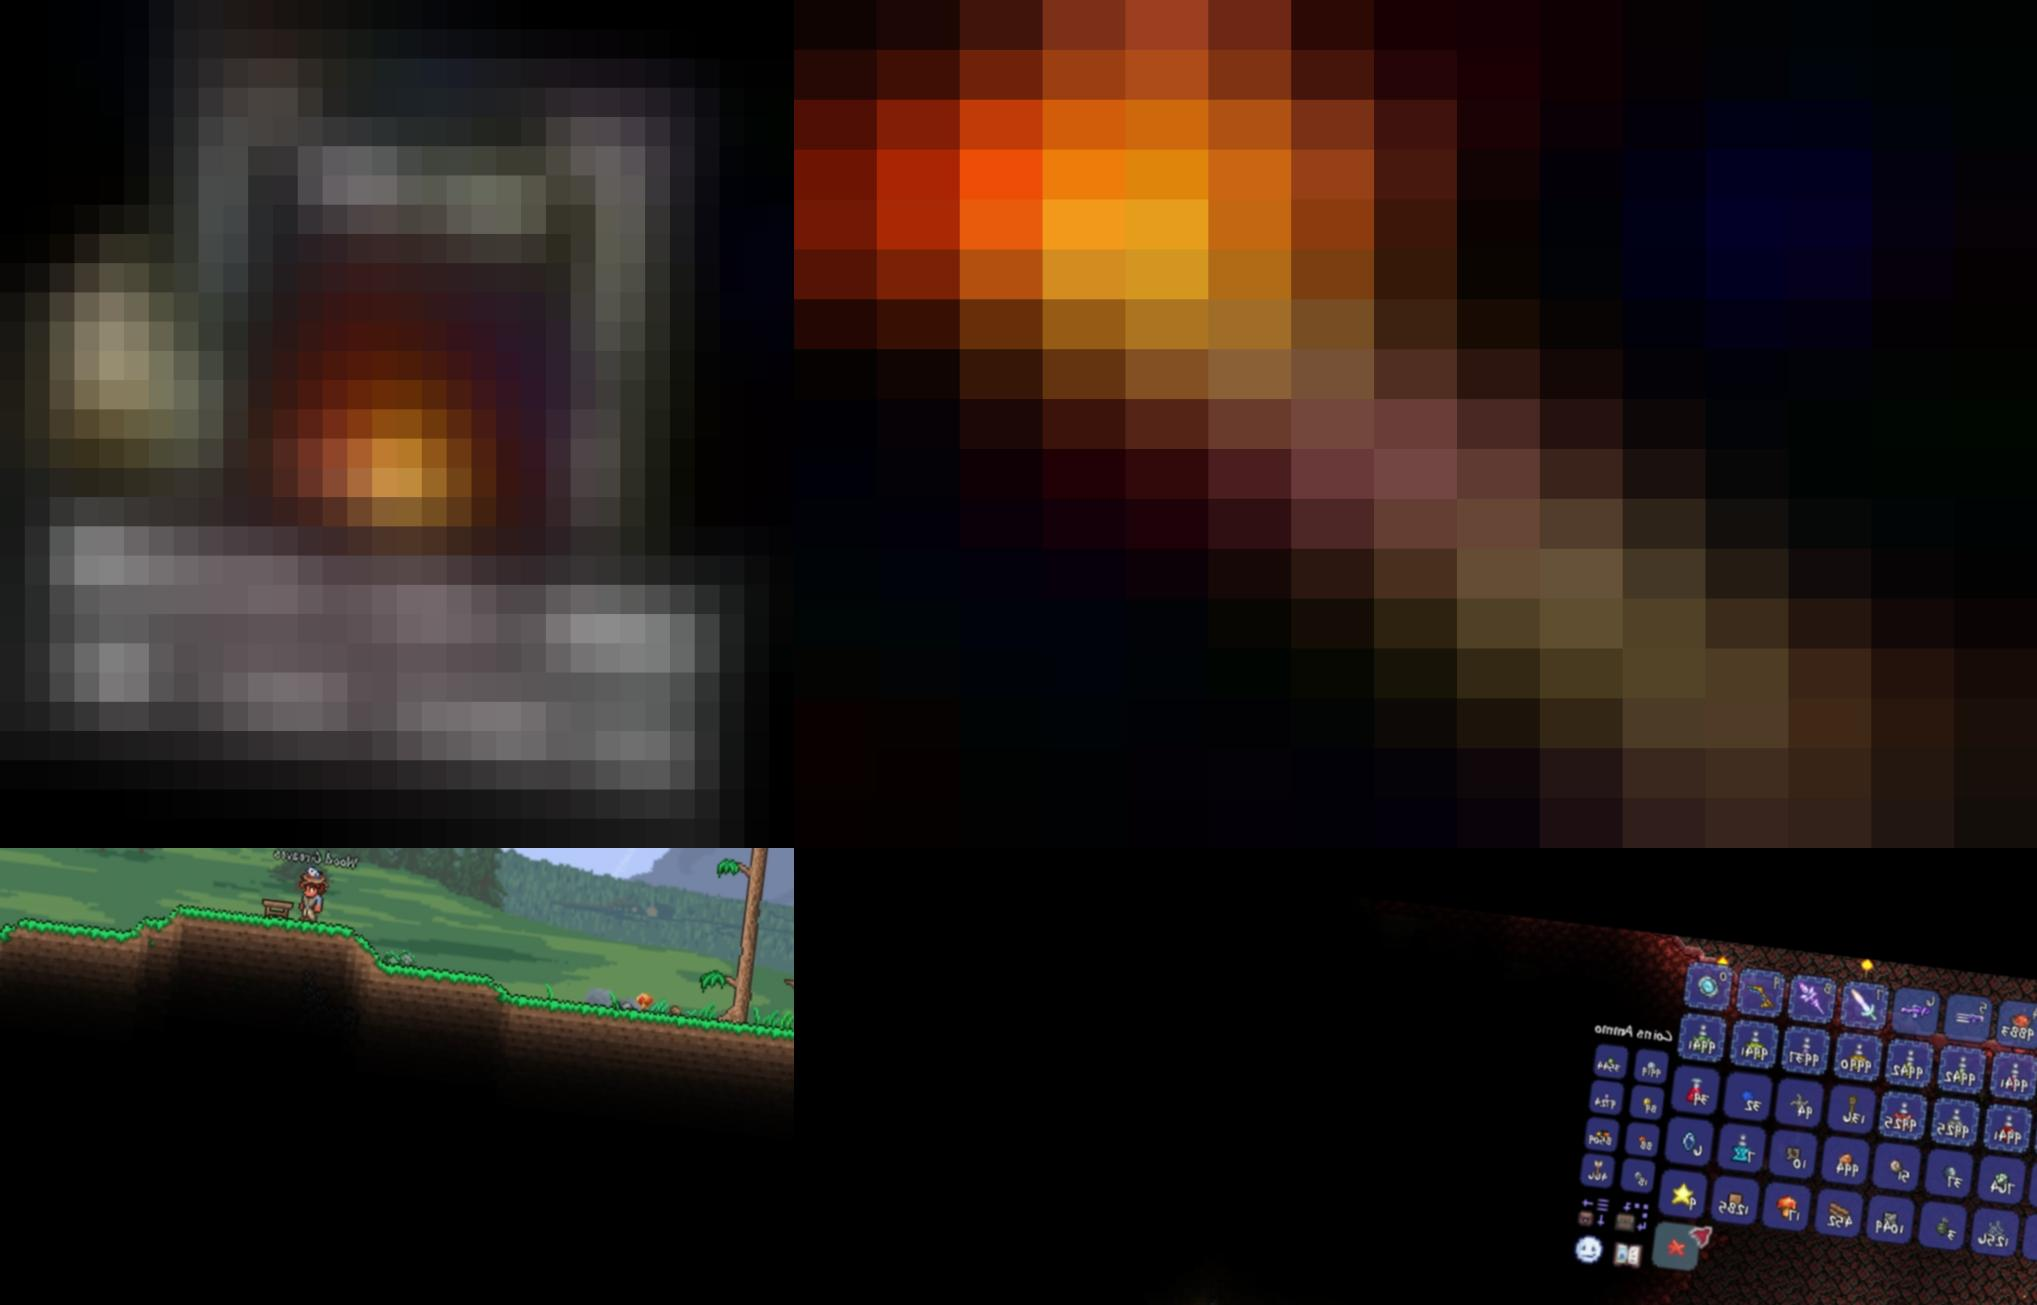furnace: (0, 0, 794, 848)
mirror: (1694, 969, 1725, 1001)
torchT: (794, 0, 2037, 848)
